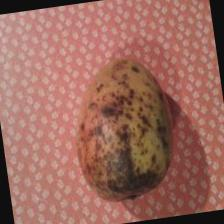Mango Rotten: (64, 46, 180, 202)
